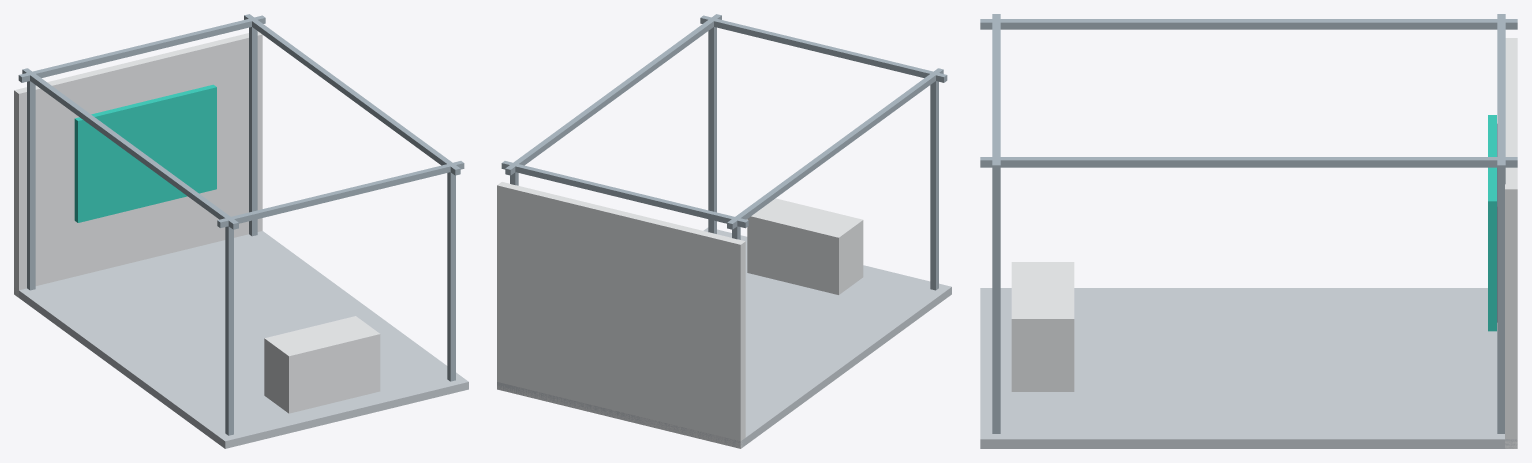
3 views of the same model, side by side, from view 1: azimuth 30°, elevation 25°; view 2: azimuth 150°, elevation 25°; view 3: azimuth 270°, elevation 25° (orthographic). The views are drawn at different scales.
Parts seen in each view (by area): view 1: Exhibition Booth Concept; view 2: Exhibition Booth Concept; view 3: Exhibition Booth Concept.
Boxes of the visible parts, x1,y1,x2,y2 form: Exhibition Booth Concept: (14, 14, 468, 448); Exhibition Booth Concept: (497, 14, 951, 448); Exhibition Booth Concept: (980, 14, 1517, 448).
Size of the model in its own units: 4 by 3.49 by 6.
